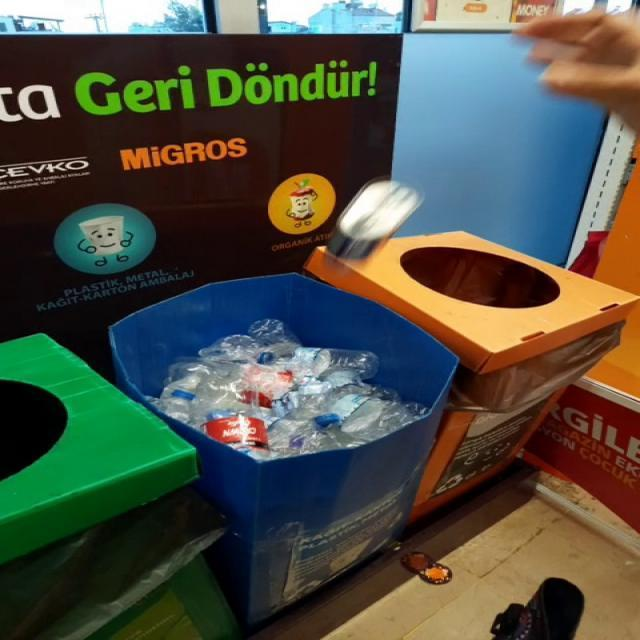Metal: (328, 178, 424, 259)
